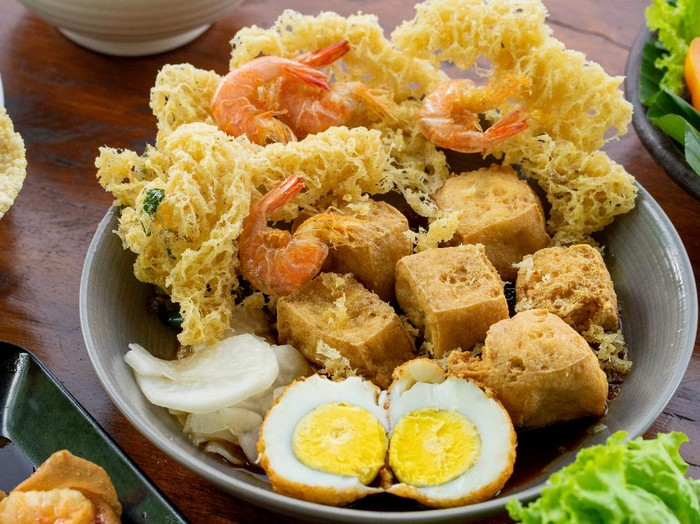Tahu: (493, 311, 591, 407), (296, 275, 393, 369), (515, 254, 617, 326), (408, 244, 495, 321), (443, 180, 534, 248), (340, 208, 402, 277)
